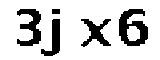3: (12, 5, 45, 48)
6: (118, 5, 155, 50)
j: (42, 2, 71, 60)
x: (75, 10, 114, 51)
